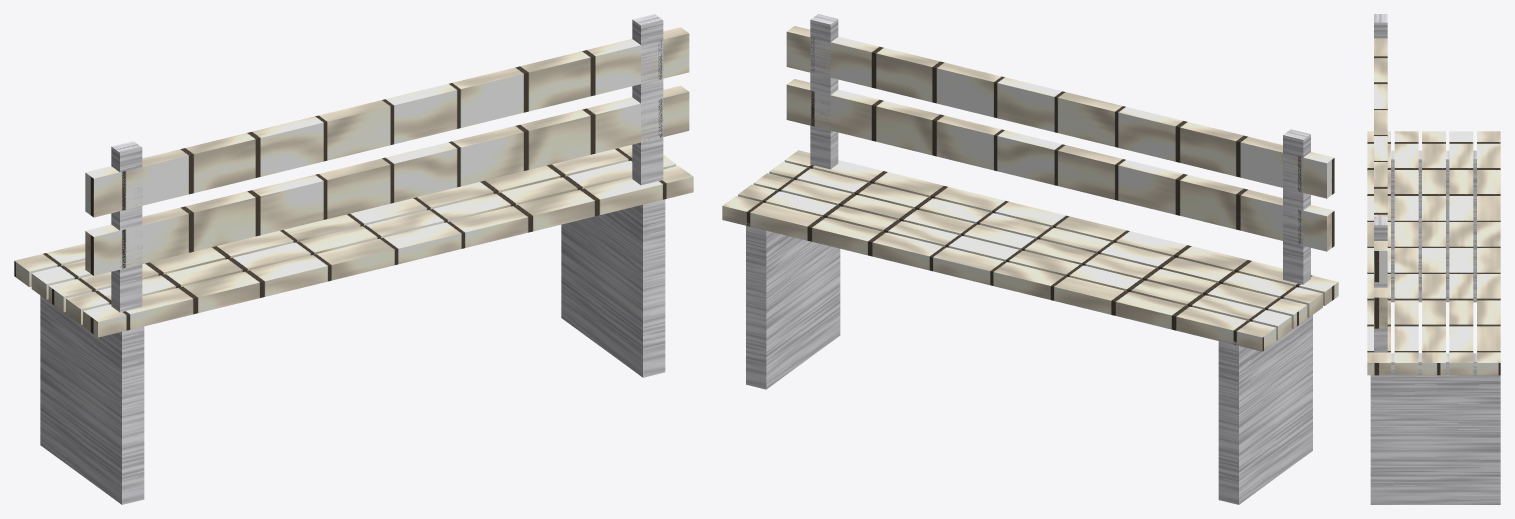
Rendered from panchina.obj.
3 views of the same model, side by side, from view 1: azimuth 30°, elevation 25°; view 2: azimuth 150°, elevation 25°; view 3: azimuth 270°, elevation 25° (orthographic). The views are drawn at different scales.
Parts seen in each view (by area): view 1: legno_000, metallo_001; view 2: legno_000, metallo_001; view 3: legno_000, metallo_001.
Part boxes in pixels (x1,y1,x2,y2): legno_000: (14,27,693,337); metallo_001: (40,14,665,504); legno_000: (722,26,1338,351); metallo_001: (746,14,1312,504); legno_000: (1367,38,1500,375); metallo_001: (1370,14,1500,504).
Size of the model in its own units: 1.6 by 0.9 by 0.39.
Materials: 2 (2 with a texture image).
